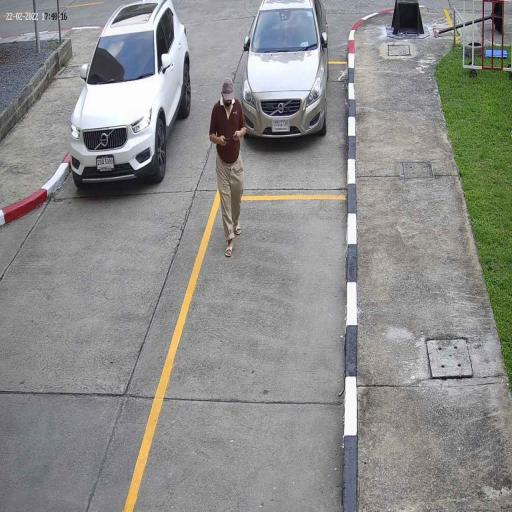car: (70, 0, 191, 188), (242, 0, 328, 140)
